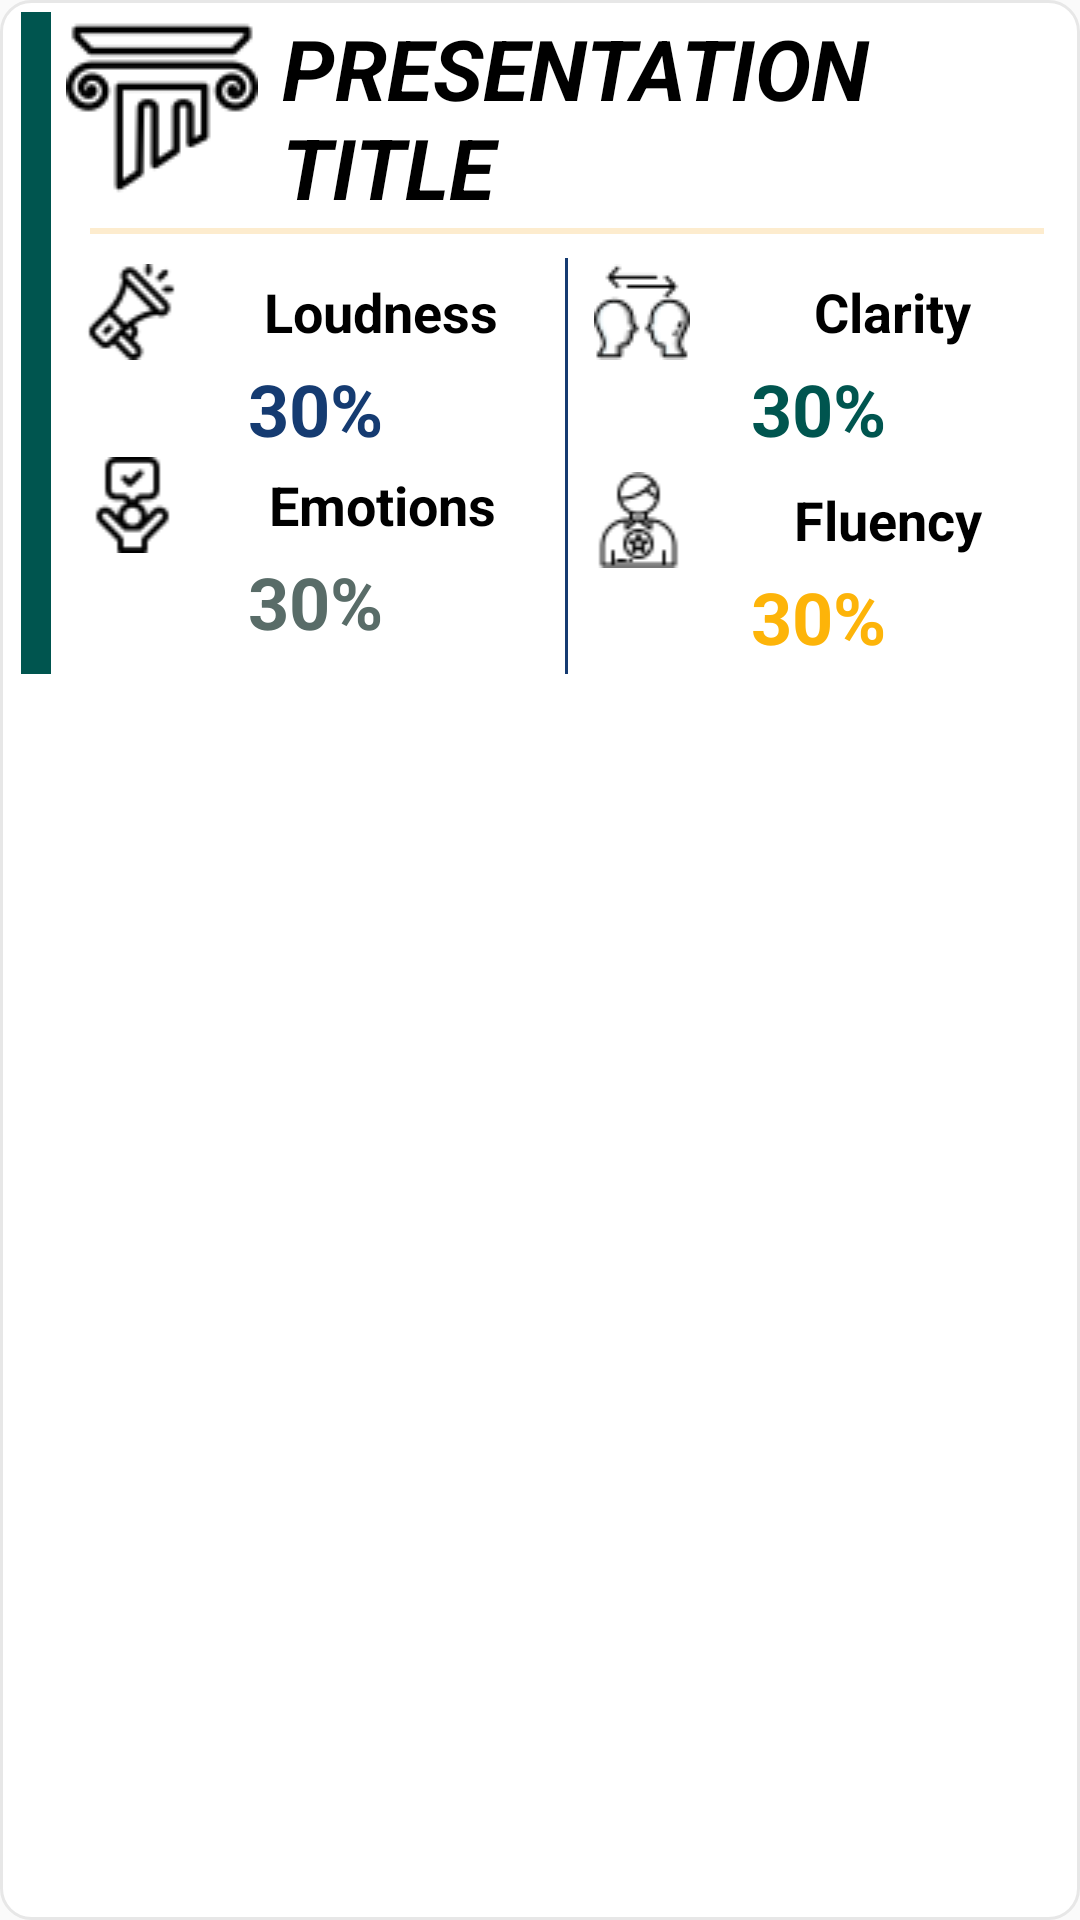

Screen size 1080×1920. Icon name, then its box in pixels as {"x1": x1, "y1": y1, "x2": x2, "y2": y2}:
history: {"x1": 66, "y1": 24, "x2": 258, "y2": 192}
